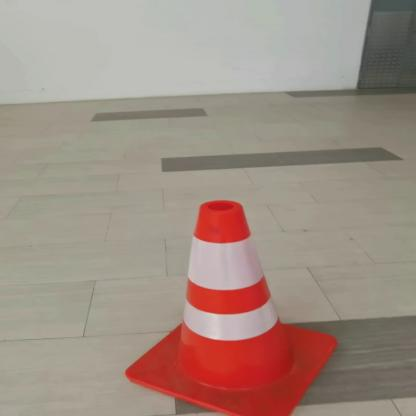cone: (103, 193, 368, 414)
